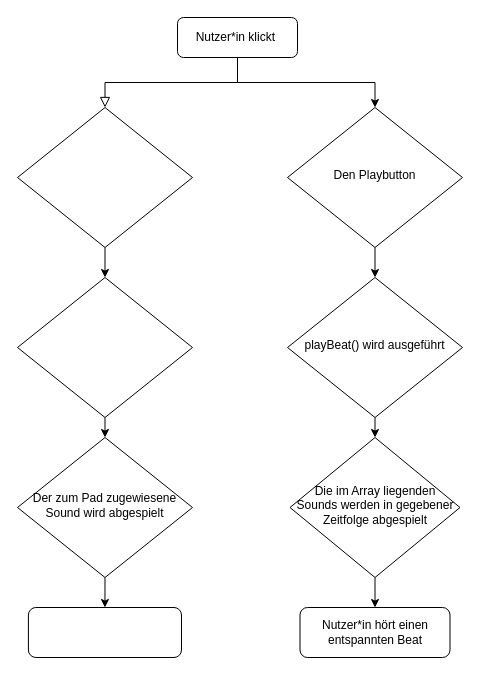
Some shapes in this 480 by 675 pixel diagram are drawn without their labels. Each missing label, with the centre of its shape:
Das Drumpad: (104,177)
Nutzer*in ist Producer*in geworden: (104,632)
playSound() wird ausgeführt: (104,347)
